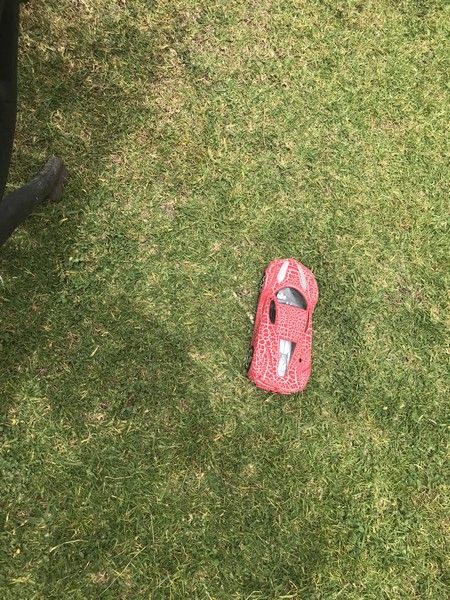RC: (244, 253, 320, 396)
